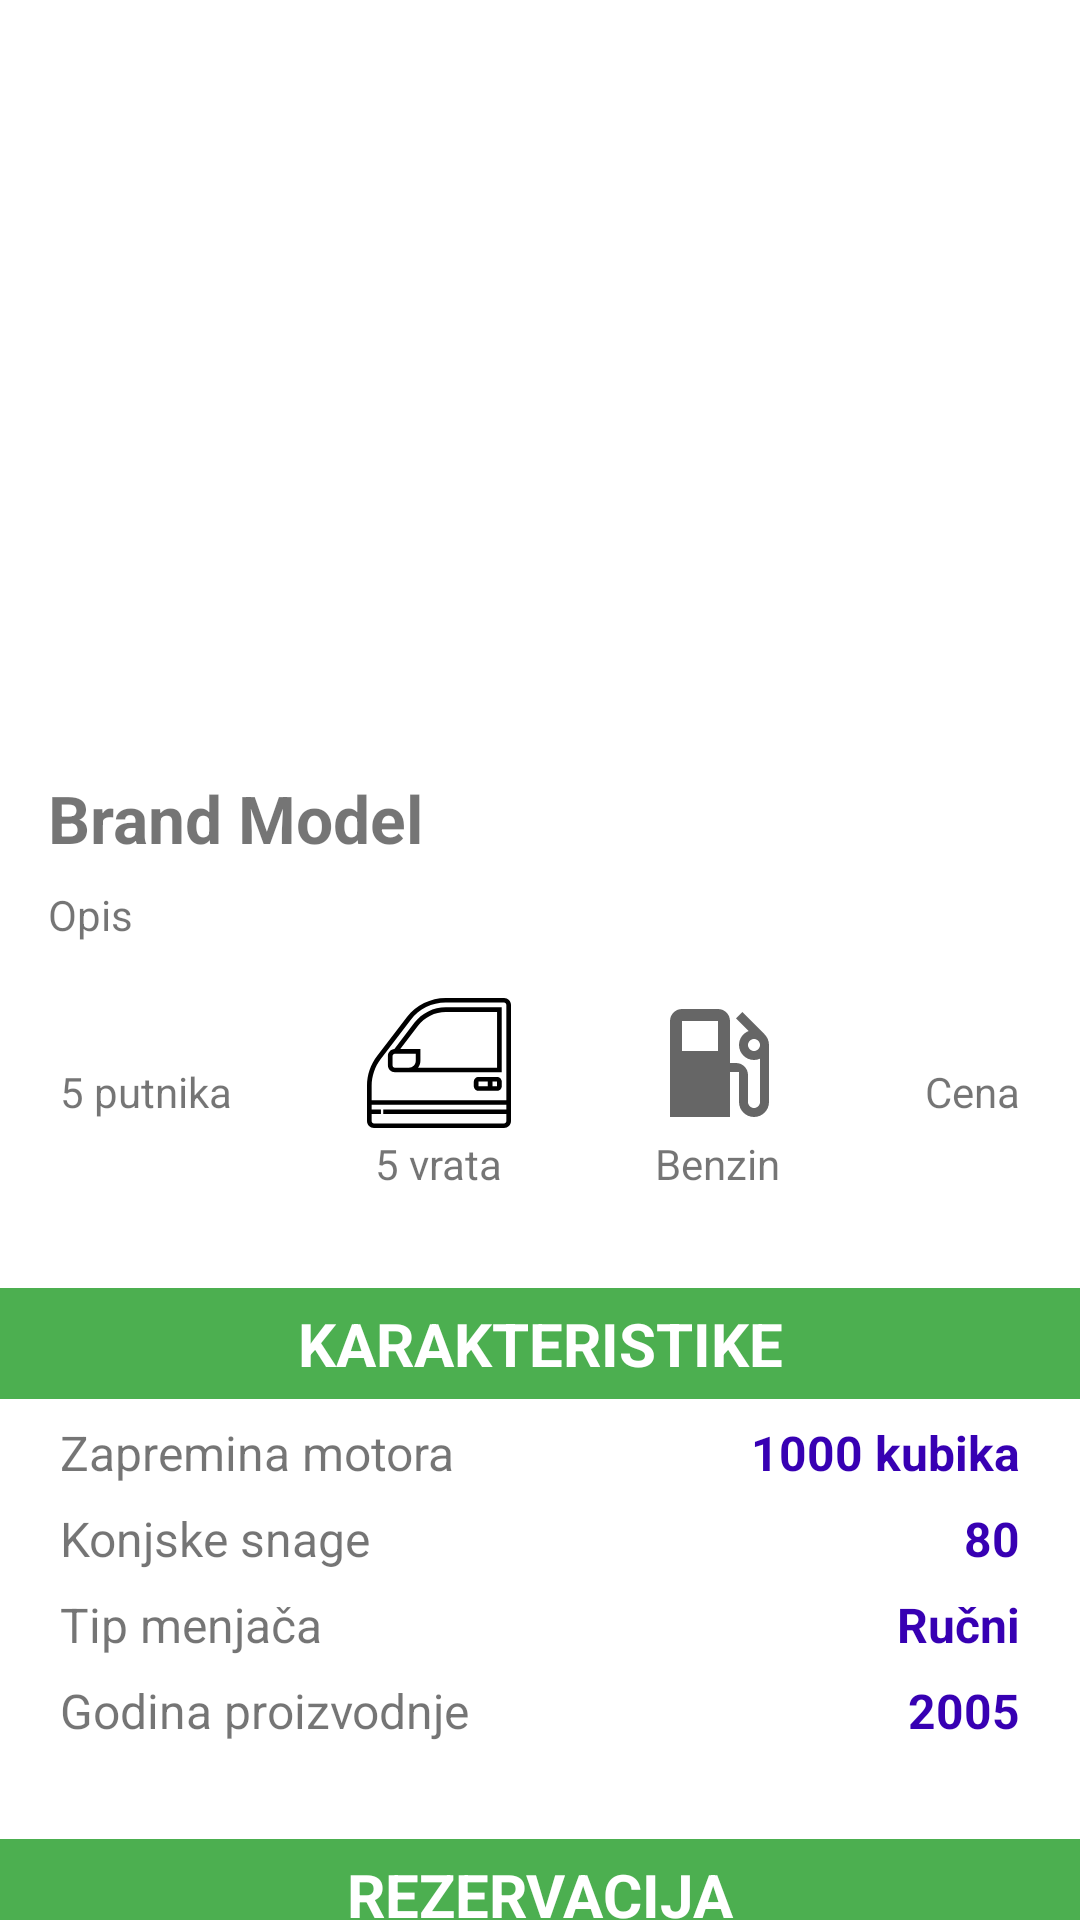

Locate icon controls on the screen. Image size 1080 × 1920, boxes as detection(x1, y1, x2, y2).
local gas station: detection(670, 1009, 769, 1117)
